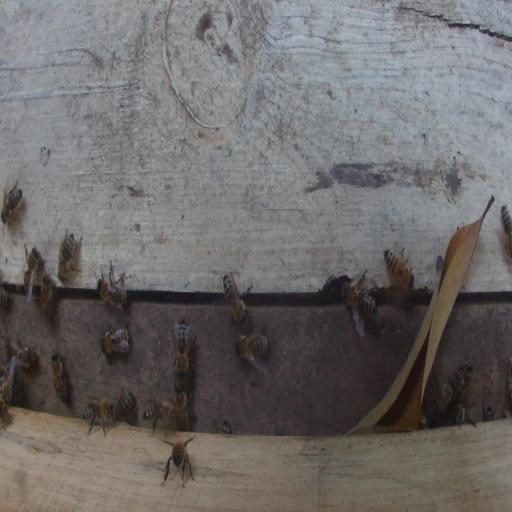bee: (221, 271, 253, 330), (97, 259, 128, 312), (57, 229, 83, 285), (383, 246, 413, 291), (142, 399, 177, 437), (83, 397, 115, 437), (234, 332, 270, 366), (23, 243, 43, 301), (342, 283, 377, 316), (50, 350, 71, 402), (174, 321, 189, 389), (1, 179, 23, 224), (100, 329, 130, 359), (165, 441, 188, 479), (39, 274, 57, 322), (0, 359, 15, 411), (114, 389, 136, 423), (172, 388, 190, 429), (13, 342, 39, 370), (454, 362, 473, 397), (452, 402, 477, 427), (438, 376, 456, 410), (501, 203, 512, 255), (1, 286, 11, 309)
